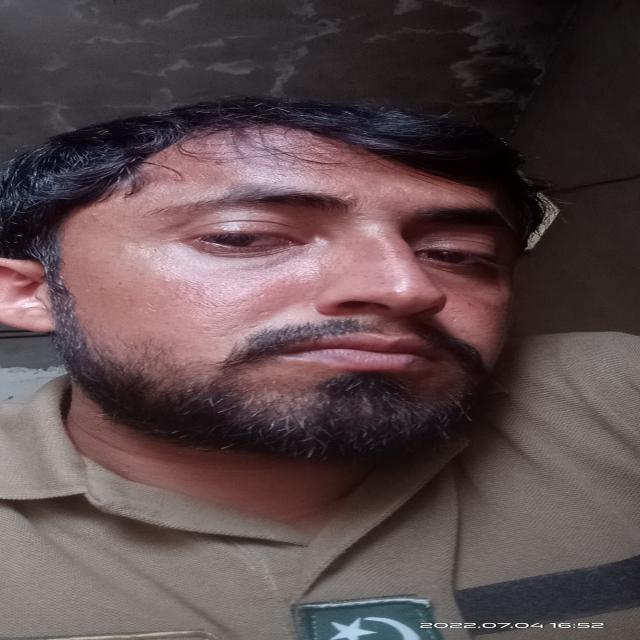Acne: (213, 287, 272, 324)
